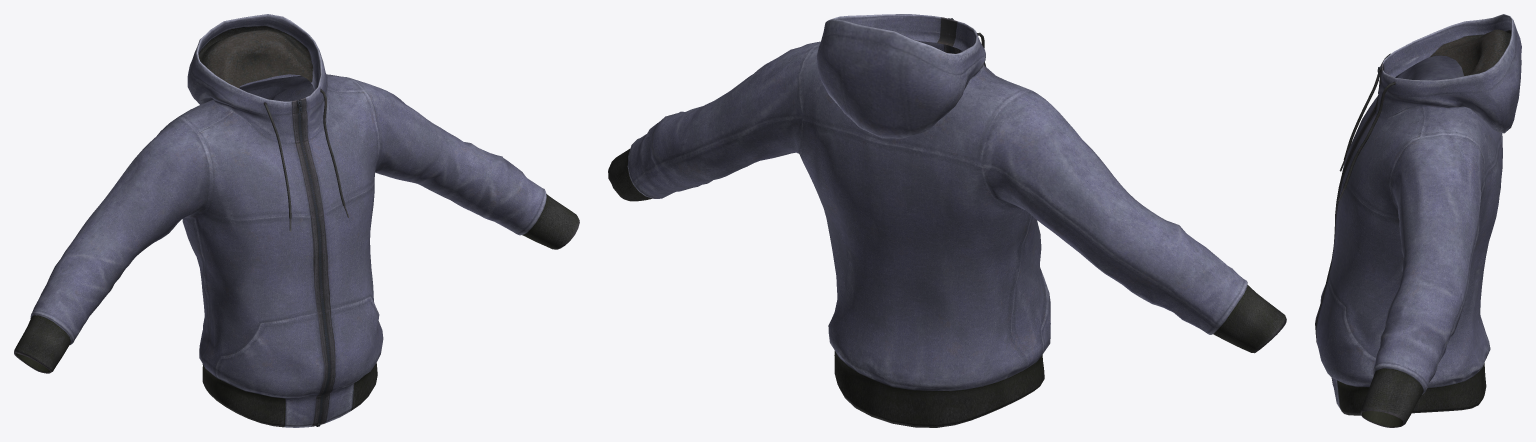
Rendered from hooded_jacket.glb.
3 renders of one model, left to right at view 1: azimuth 30°, elevation 25°; view 2: azimuth 150°, elevation 25°; view 3: azimuth 270°, elevation 25°, orthographic. The views are drawn at different scales.
Parts seen in each view (by area): view 1: Torso_low, Lace_low; view 2: Torso_low; view 3: Torso_low, Lace_low.
Boxes of the visible parts, bbox=[...] form: Torso_low: bbox=[14, 14, 579, 427]; Lace_low: bbox=[263, 89, 349, 231]; Torso_low: bbox=[608, 14, 1286, 427]; Torso_low: bbox=[1315, 14, 1521, 427]; Lace_low: bbox=[1338, 53, 1395, 200].
Bounding box in the file's own units: 5.56 × 3.32 × 1.66.
Materials: 1 (1 with a texture image).
